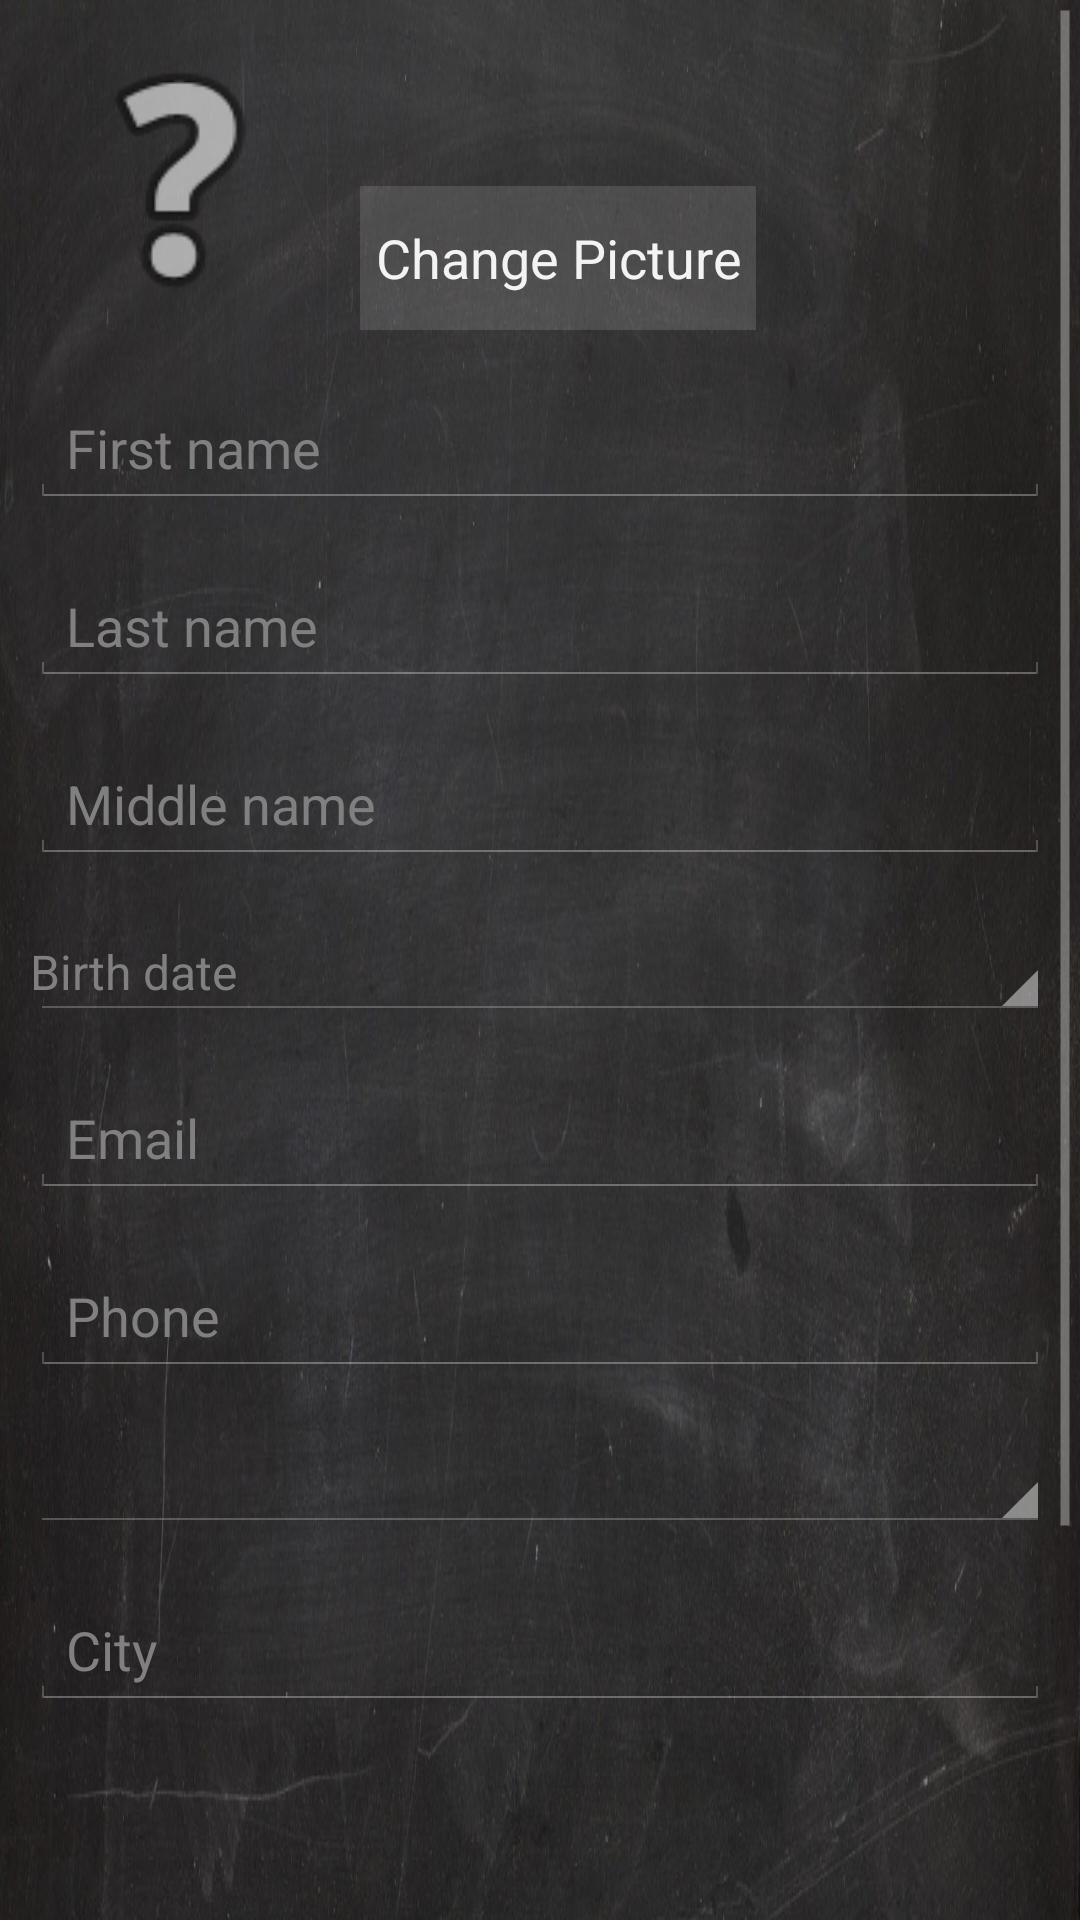

Screen size 1080*1920. Icon name, then its center in pixels as [x,y]:
help: [209,200]
